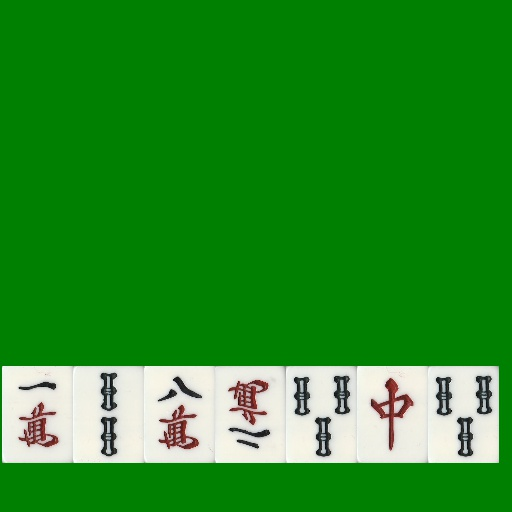1m: (2, 366, 73, 463)
2m: (215, 366, 286, 463)
2s: (73, 366, 144, 463)
3s: (286, 366, 357, 463), (428, 366, 499, 463)
8m: (144, 366, 215, 463)
tyun: (357, 366, 428, 463)
